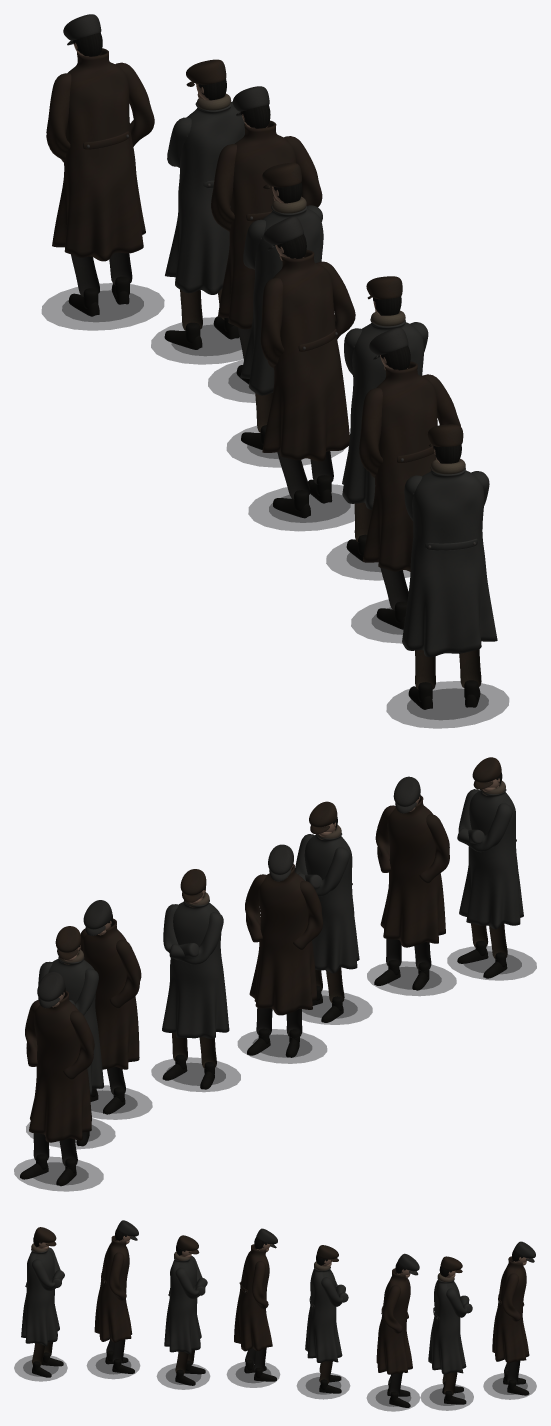
The model's file is works-no-2-men.glb.
3 renders of one model, top to bottom at view 1: azimuth 30°, elevation 25°; view 2: azimuth 150°, elevation 25°; view 3: azimuth 270°, elevation 25°, orthographic. The views are drawn at different scales.
Visible parts, largest first — view 1: worker-hands-in-pockets-body.003, worker-hands-in-pockets-body.005, worker-arms-folded-body.005, worker-hands-in-pockets-body.006, worker-arms-folded-body.002, worker-hands-in-pockets-body.004, worker-arms-folded-body.004, worker-arms-folded-body.003, no-2-man-8-foot-shadow, no-2-man-1-foot-shadow, no-2-man-5-foot-shadow, no-2-man-2-foot-shadow (+4 smaller); view 2: worker-hands-in-pockets-body.005, worker-hands-in-pockets-body.006, worker-hands-in-pockets-body.003, worker-arms-folded-body.003, worker-arms-folded-body.005, worker-arms-folded-body.004, worker-hands-in-pockets-body.004, worker-arms-folded-body.002, no-2-man-5-foot-shadow, no-2-man-4-foot-shadow, no-2-man-7-foot-shadow, no-2-man-1-foot-shadow (+4 smaller); view 3: worker-arms-folded-body.005, worker-arms-folded-body.004, worker-hands-in-pockets-body.005, worker-hands-in-pockets-body.006, worker-arms-folded-body.002, worker-arms-folded-body.003, worker-hands-in-pockets-body.003, worker-hands-in-pockets-body.004, no-2-man-2-foot-shadow, no-2-man-4-foot-shadow, no-2-man-3-foot-shadow, no-2-man-1-foot-shadow (+4 smaller).
Boxes of the visible parts, <box> form: worker-hands-in-pockets-body.003: <box>46,14,154,316</box>; worker-hands-in-pockets-body.005: <box>260,216,355,517</box>; worker-arms-folded-body.005: <box>402,424,497,709</box>; worker-hands-in-pockets-body.006: <box>359,327,460,629</box>; worker-arms-folded-body.002: <box>164,59,244,349</box>; worker-hands-in-pockets-body.004: <box>211,86,322,383</box>; worker-arms-folded-body.004: <box>342,276,428,561</box>; worker-arms-folded-body.003: <box>240,162,323,449</box>; no-2-man-8-foot-shadow: <box>386,681,508,728</box>; no-2-man-1-foot-shadow: <box>42,283,164,330</box>; no-2-man-5-foot-shadow: <box>248,484,354,531</box>; no-2-man-2-foot-shadow: <box>151,317,243,364</box>; worker-hands-in-pockets-body.005: <box>245,844,323,1057</box>; worker-hands-in-pockets-body.006: <box>374,776,449,990</box>; worker-hands-in-pockets-body.003: <box>20,972,94,1185</box>; worker-arms-folded-body.003: <box>162,869,229,1089</box>; worker-arms-folded-body.005: <box>457,757,523,978</box>; worker-arms-folded-body.004: <box>295,801,359,1022</box>; worker-hands-in-pockets-body.004: <box>80,900,141,1114</box>; worker-arms-folded-body.002: <box>38,926,104,1146</box>; no-2-man-5-foot-shadow: <box>238,1029,326,1063</box>; no-2-man-4-foot-shadow: <box>151,1057,240,1091</box>; no-2-man-7-foot-shadow: <box>367,961,456,995</box>; no-2-man-1-foot-shadow: <box>14,1157,103,1191</box>; worker-arms-folded-body.005: <box>21,1227,64,1377</box>; worker-arms-folded-body.004: <box>164,1235,207,1385</box>; worker-hands-in-pockets-body.005: <box>234,1228,277,1381</box>; worker-hands-in-pockets-body.006: <box>94,1220,138,1373</box>; worker-arms-folded-body.002: <box>428,1256,472,1404</box>; worker-arms-folded-body.003: <box>305,1245,348,1393</box>; worker-hands-in-pockets-body.003: <box>492,1241,535,1395</box>; worker-hands-in-pockets-body.004: <box>376,1253,419,1407</box>; no-2-man-2-foot-shadow: <box>420,1384,473,1410</box>; no-2-man-4-foot-shadow: <box>297,1373,349,1399</box>; no-2-man-3-foot-shadow: <box>367,1385,419,1411</box>; no-2-man-1-foot-shadow: <box>483,1373,536,1399</box>.
Size of the model in its own units: 1.84 by 1.91 by 5.83.
12 materials, 9 textured.
